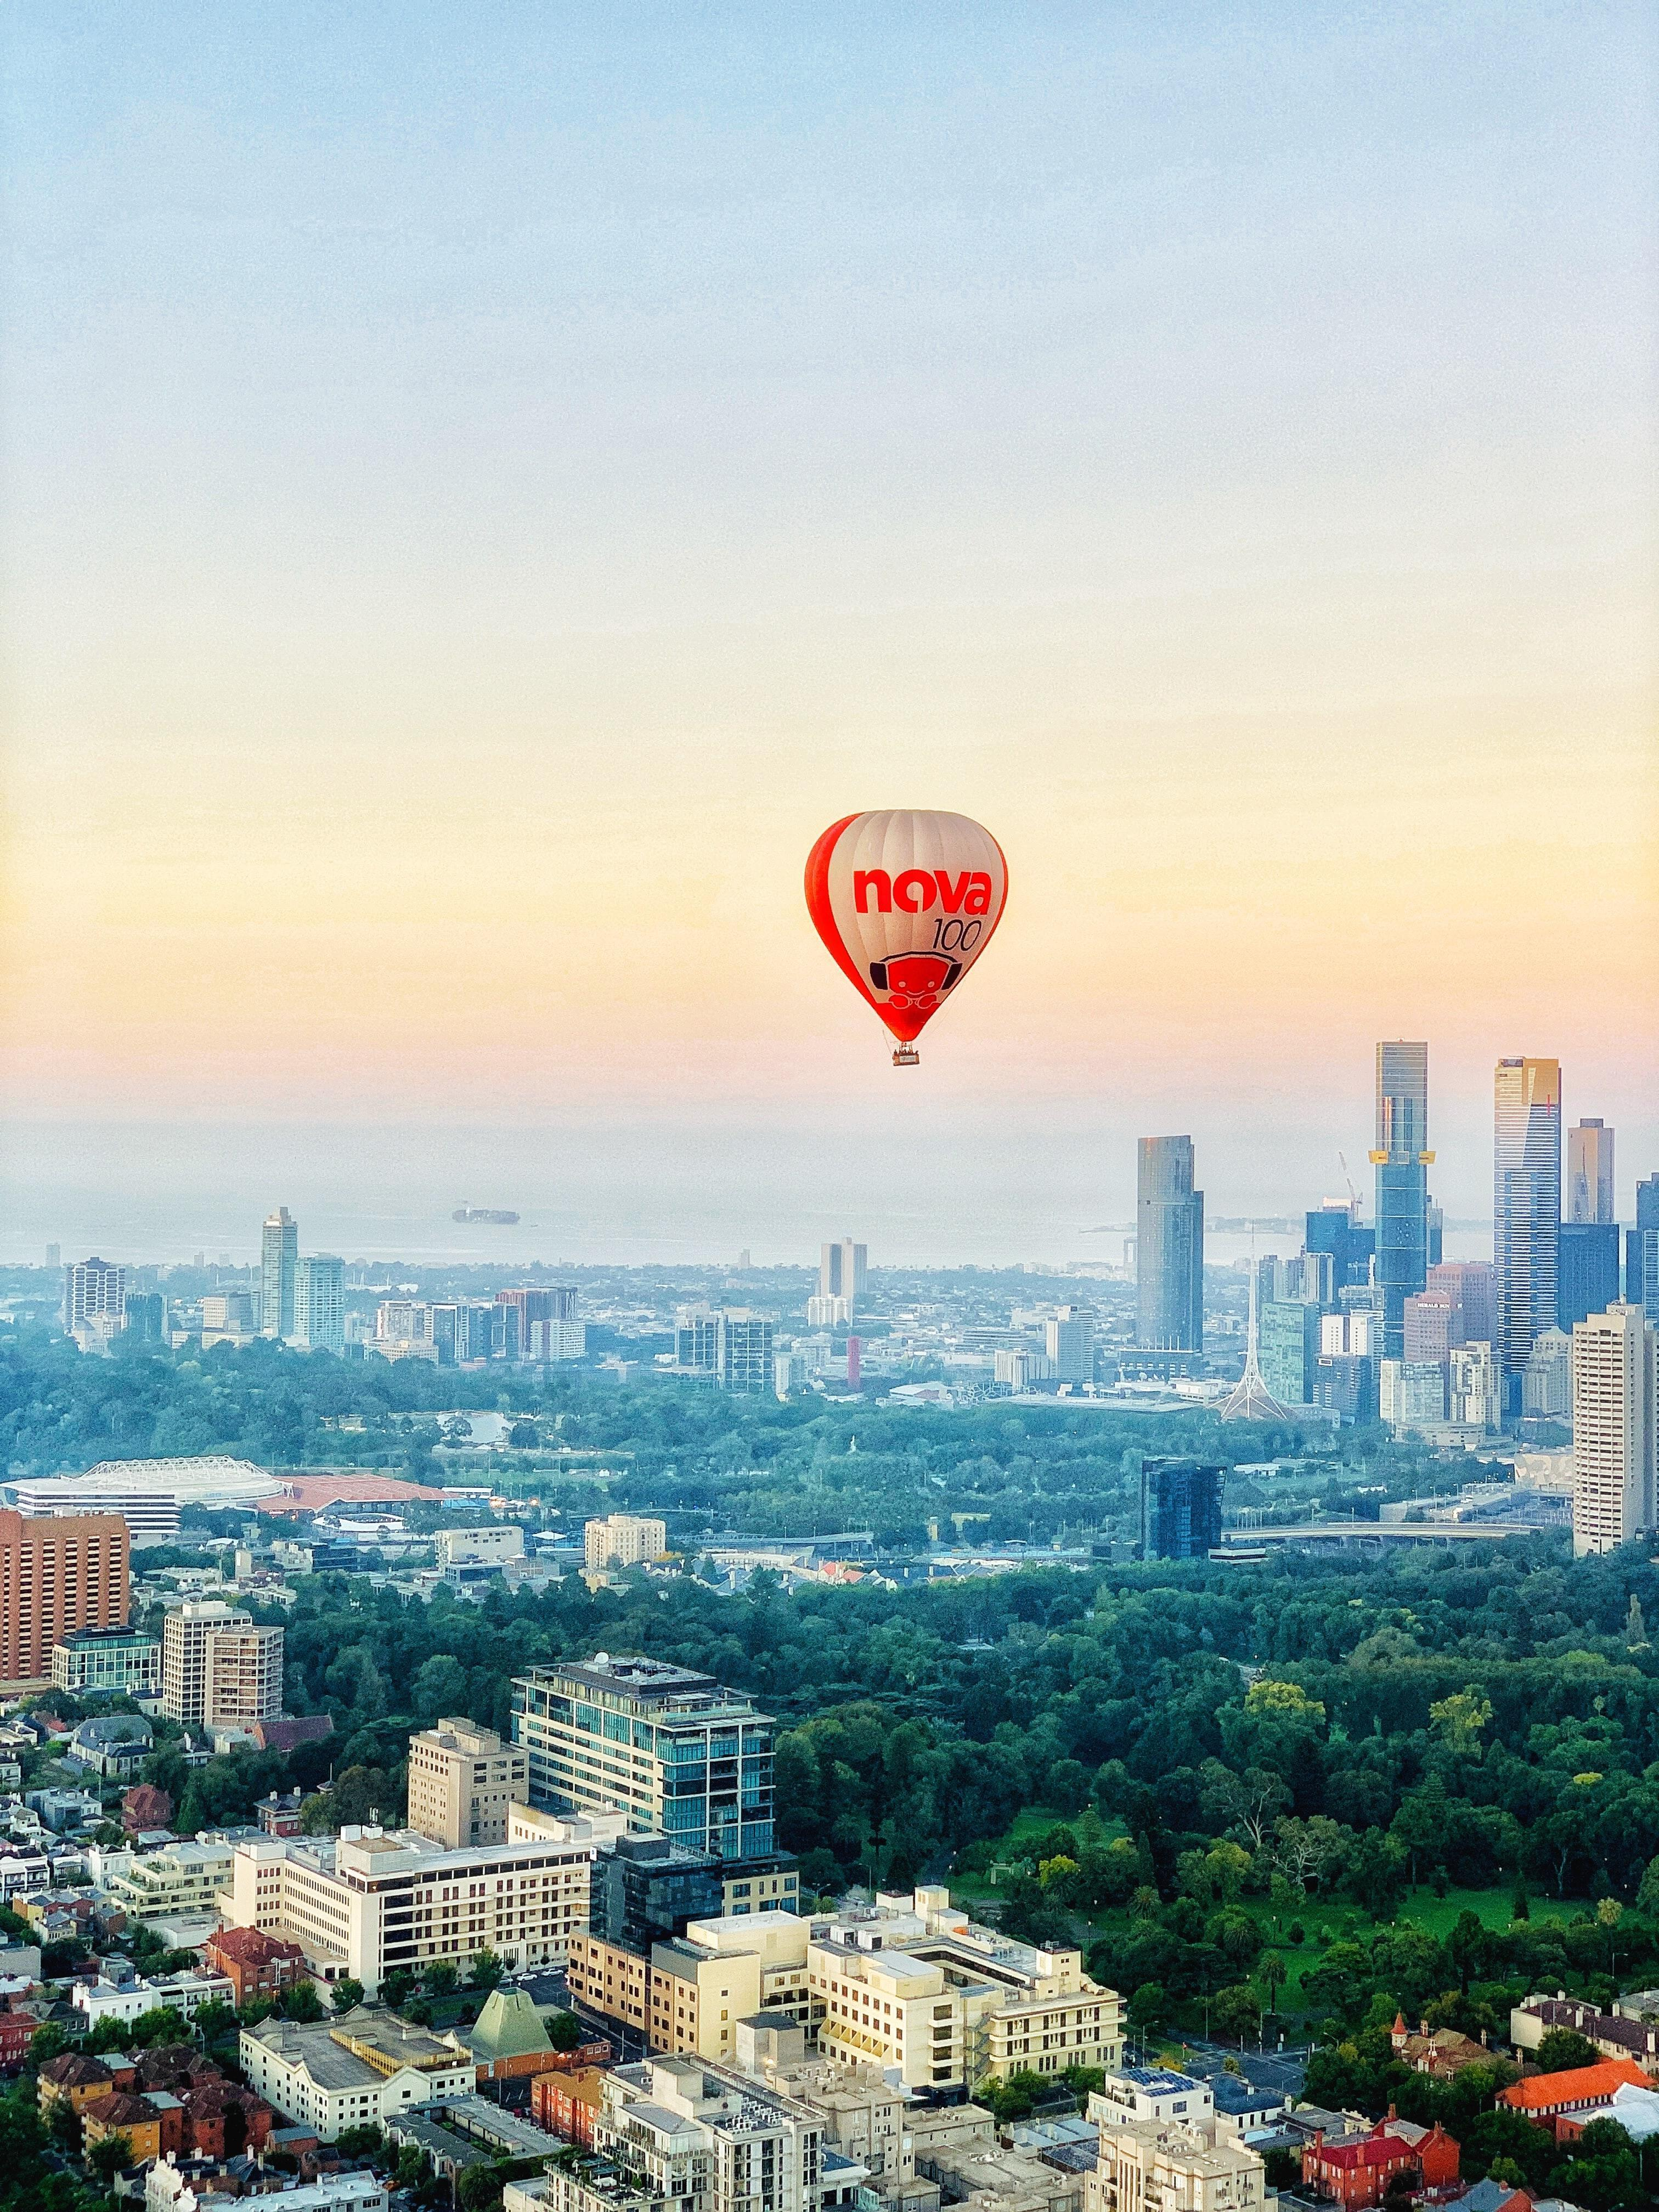hot air ballon: (803, 808, 1006, 1066)
